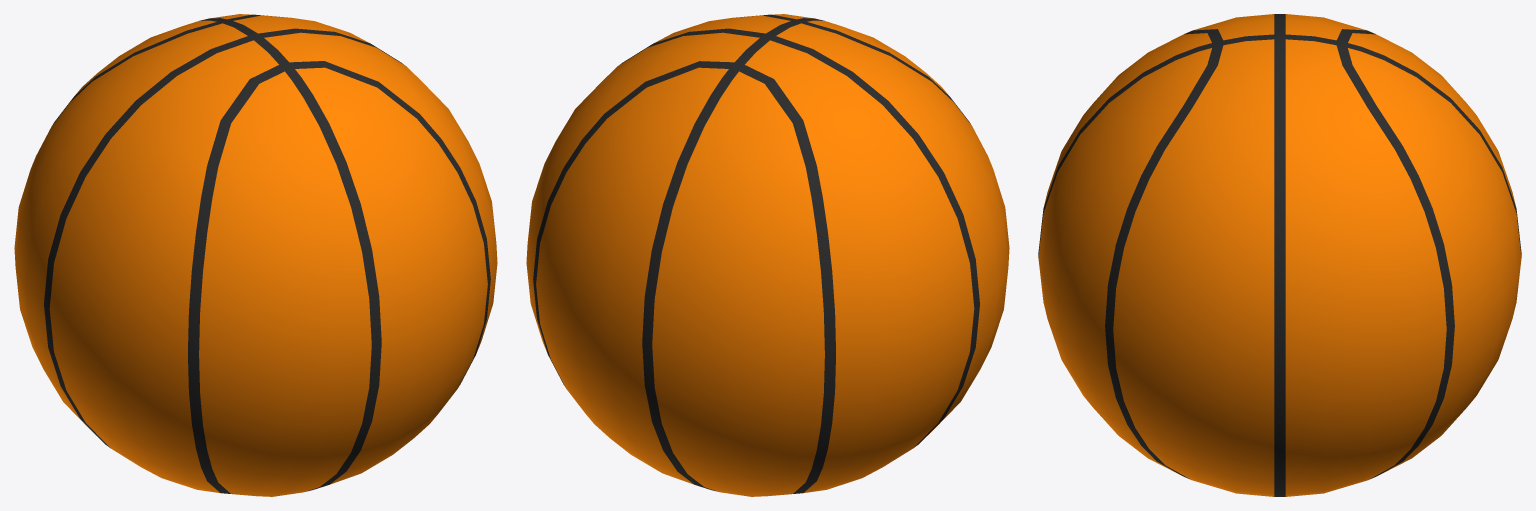
The model's file is Basketball Ball_1.fbx.
3 views of the same model, side by side, from view 1: azimuth 30°, elevation 25°; view 2: azimuth 150°, elevation 25°; view 3: azimuth 270°, elevation 25° (orthographic).
Parts seen in each view (by area): view 1: Basketball Ball_1; view 2: Basketball Ball_1; view 3: Basketball Ball_1.
Part boxes in pixels (left/top/right/bottom): Basketball Ball_1: left=14, top=14, right=497, bottom=496; Basketball Ball_1: left=526, top=14, right=1009, bottom=496; Basketball Ball_1: left=1038, top=14, right=1521, bottom=496.
Size of the model in its own units: 0.1815 by 0.1812 by 0.1815.
